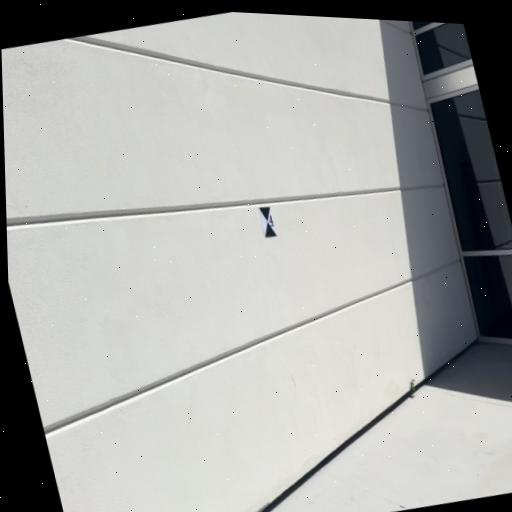target4: (258, 204, 278, 239)
